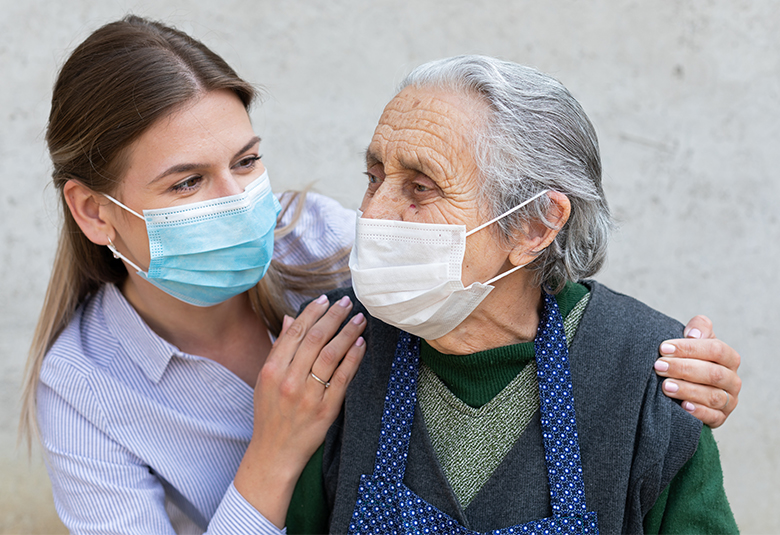with_mask: (365, 141, 488, 305), (142, 135, 270, 288)
